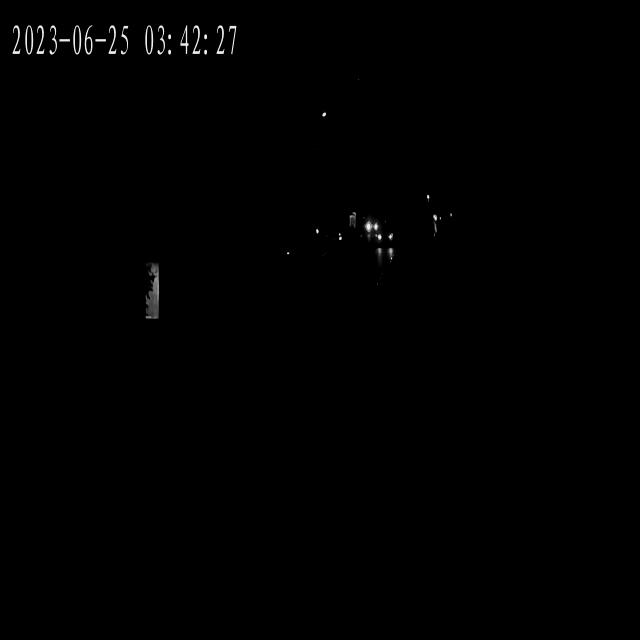Car: (371, 230, 394, 251), (360, 217, 379, 234)
